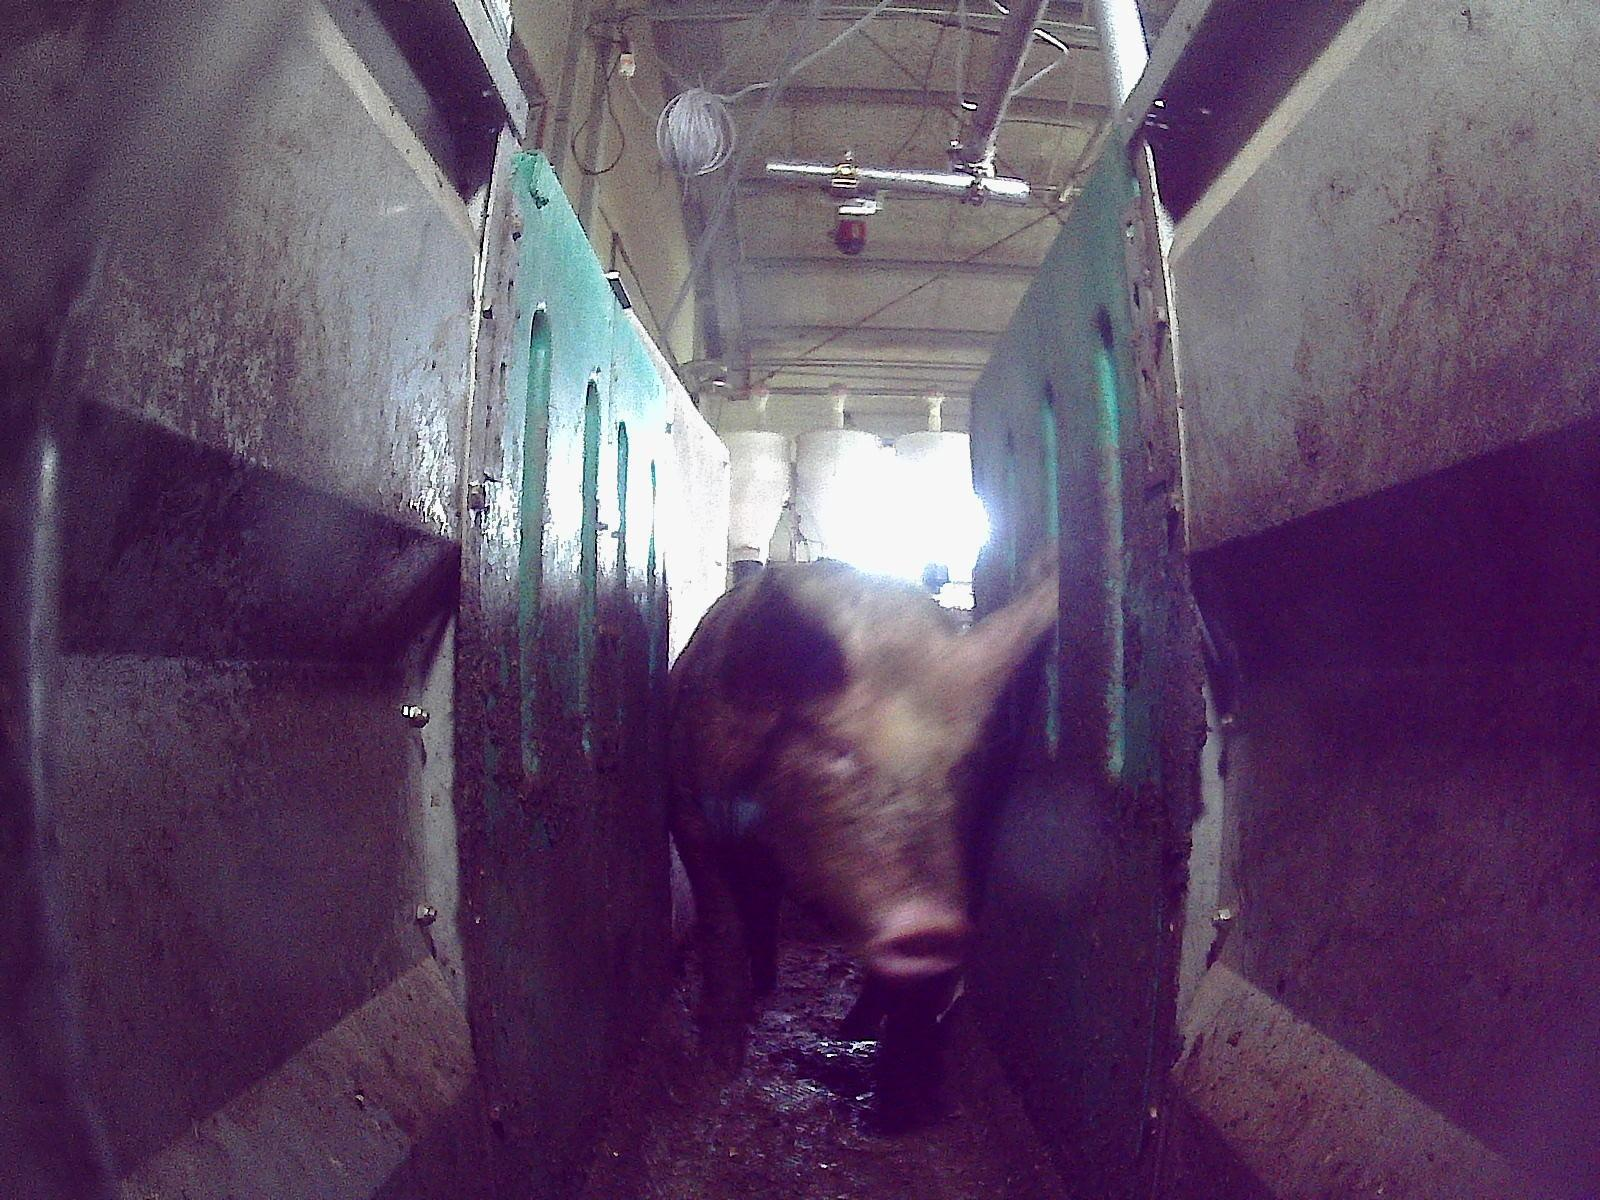Face: (744, 667, 975, 972)
